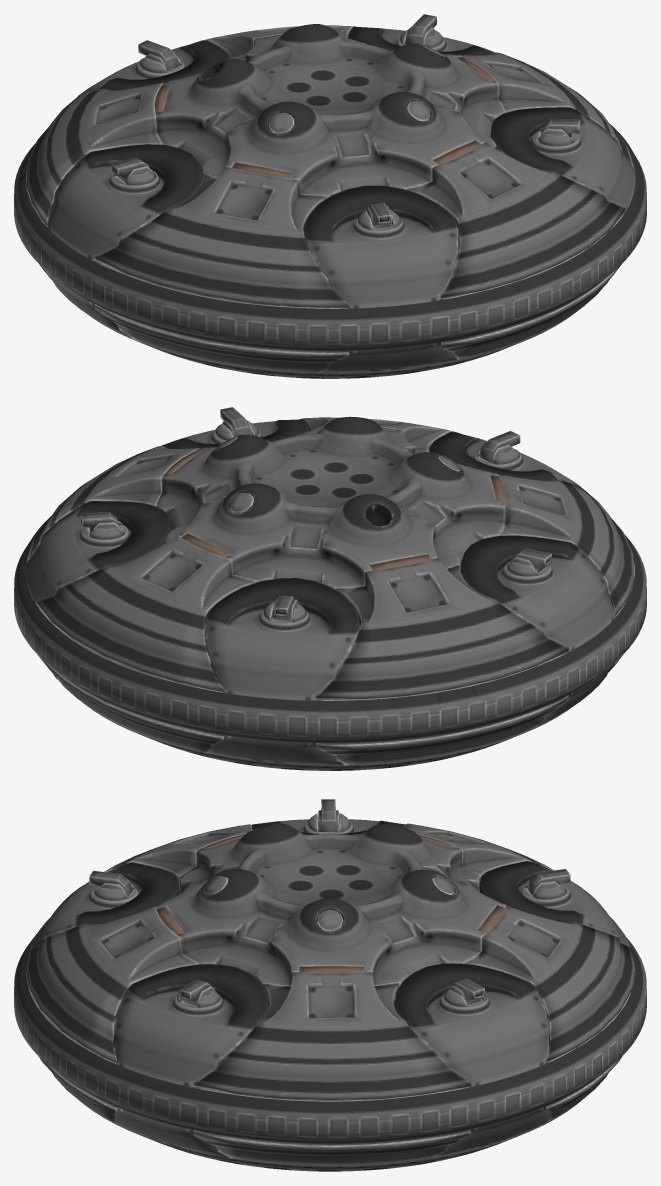
The model's file is UFO_Empty_2.obj.
3 views of the same model, one above another, from view 1: azimuth 30°, elevation 25°; view 2: azimuth 150°, elevation 25°; view 3: azimuth 270°, elevation 25° (orthographic).
Parts seen in each view (by area): view 1: Ufo_Emi_Red; view 2: Ufo_Emi_Red; view 3: Ufo_Emi_Red.
Boxes of the visible parts, <box> form: Ufo_Emi_Red: <box>14,14,646,378</box>; Ufo_Emi_Red: <box>14,407,646,770</box>; Ufo_Emi_Red: <box>14,799,646,1171</box>.
Size of the model in its own units: 0.2996 by 0.1322 by 0.2996.
Materials: 1 (1 with a texture image).
